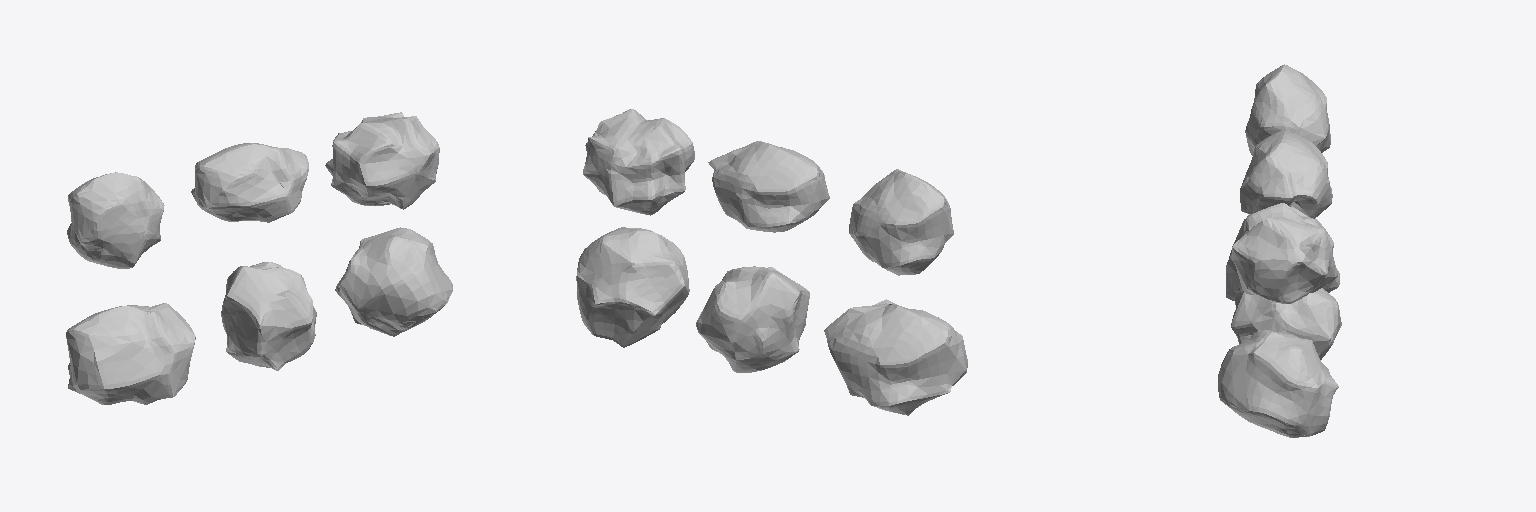
Rendered from Asteroid_Small_6X.obj.
3 renders of one model, left to right at view 1: azimuth 30°, elevation 25°; view 2: azimuth 150°, elevation 25°; view 3: azimuth 270°, elevation 25°, orthographic.
Visible parts, largest first — view 1: Aster_Small_1__Cube.017; view 2: Aster_Small_1__Cube.017; view 3: Aster_Small_1__Cube.017.
Part boxes in pixels (x1,y1,x2,y2): Aster_Small_1__Cube.017: (66,112,452,404); Aster_Small_1__Cube.017: (576,109,967,415); Aster_Small_1__Cube.017: (1218,64,1341,437).
Bounding box in the file's own units: 5.1 × 3.03 × 1.45.